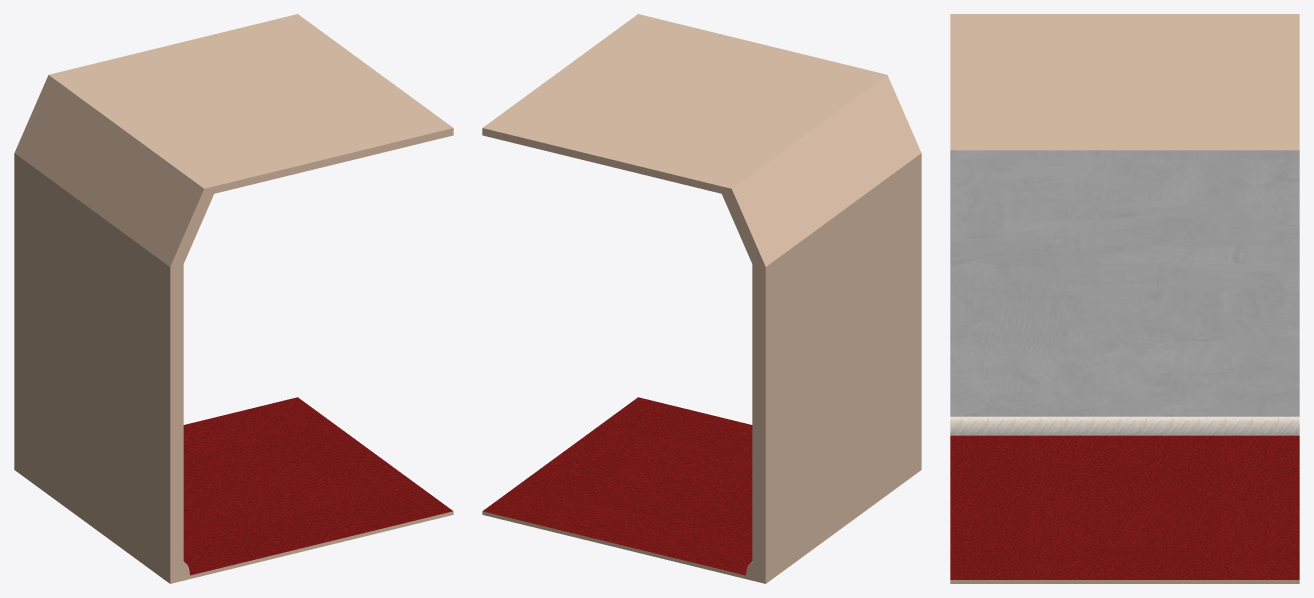
File: Modulo pared.fbx
3 renders of one model, left to right at view 1: azimuth 30°, elevation 25°; view 2: azimuth 150°, elevation 25°; view 3: azimuth 270°, elevation 25°, orthographic. The views are drawn at different scales.
Parts seen in each view (by area): view 1: Pared y piso Izquierda; view 2: Pared y piso Izquierda; view 3: Pared y piso Izquierda.
Boxes of the visible parts, x1,y1,x2,y2 form: Pared y piso Izquierda: (14,14,453,583); Pared y piso Izquierda: (482,14,921,583); Pared y piso Izquierda: (950,14,1299,583).
Bounding box in the file's own units: 421 × 549 × 401.
4 materials, 3 textured.
